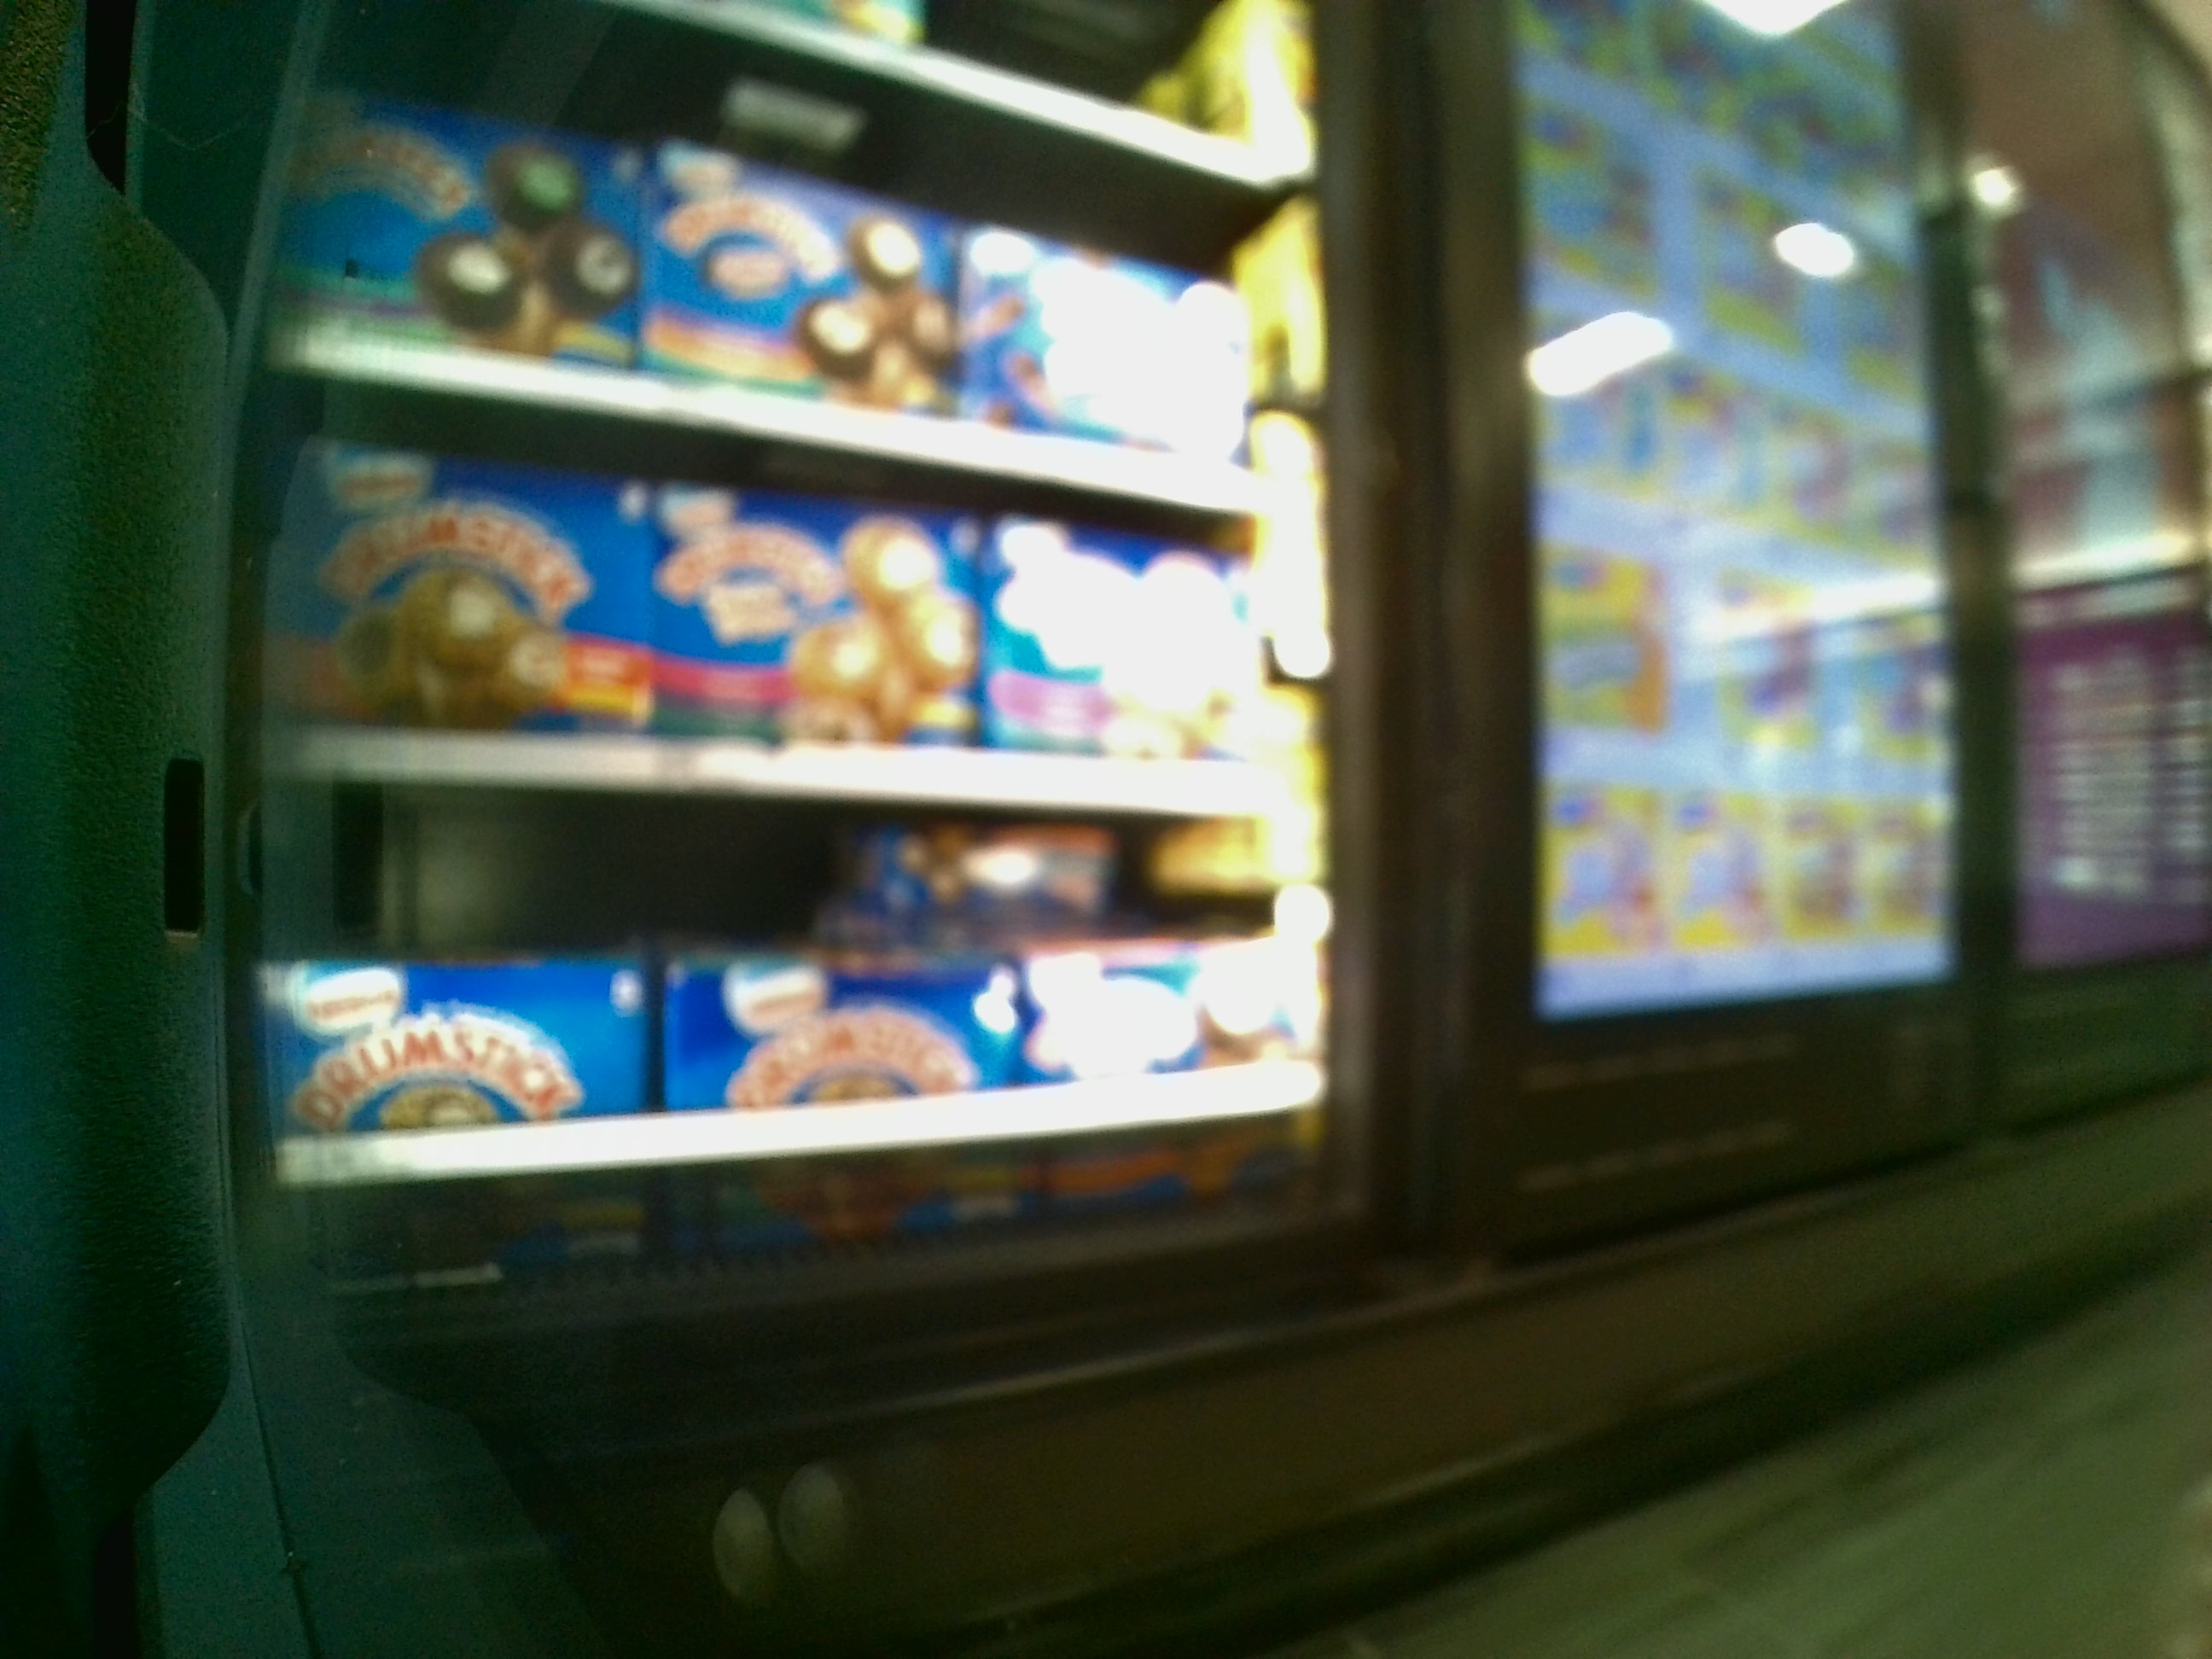shelf: (272, 816, 1343, 1281)
